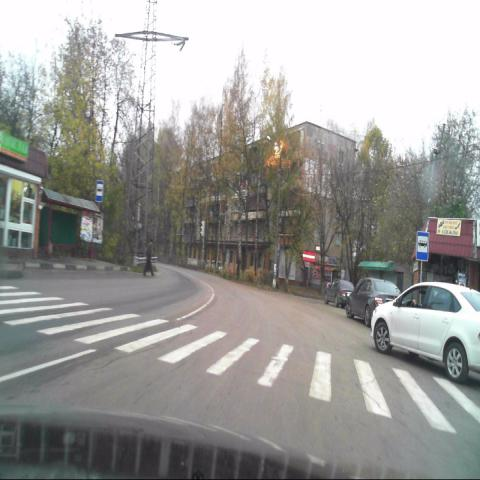5_16: (415, 230, 429, 260)
